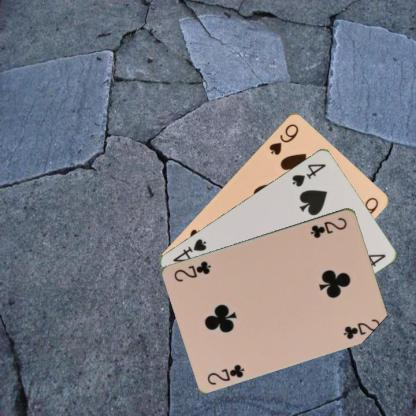2c: (205, 361, 246, 386), (308, 214, 348, 239)
4s: (289, 160, 327, 188)
9s: (266, 121, 300, 156)
